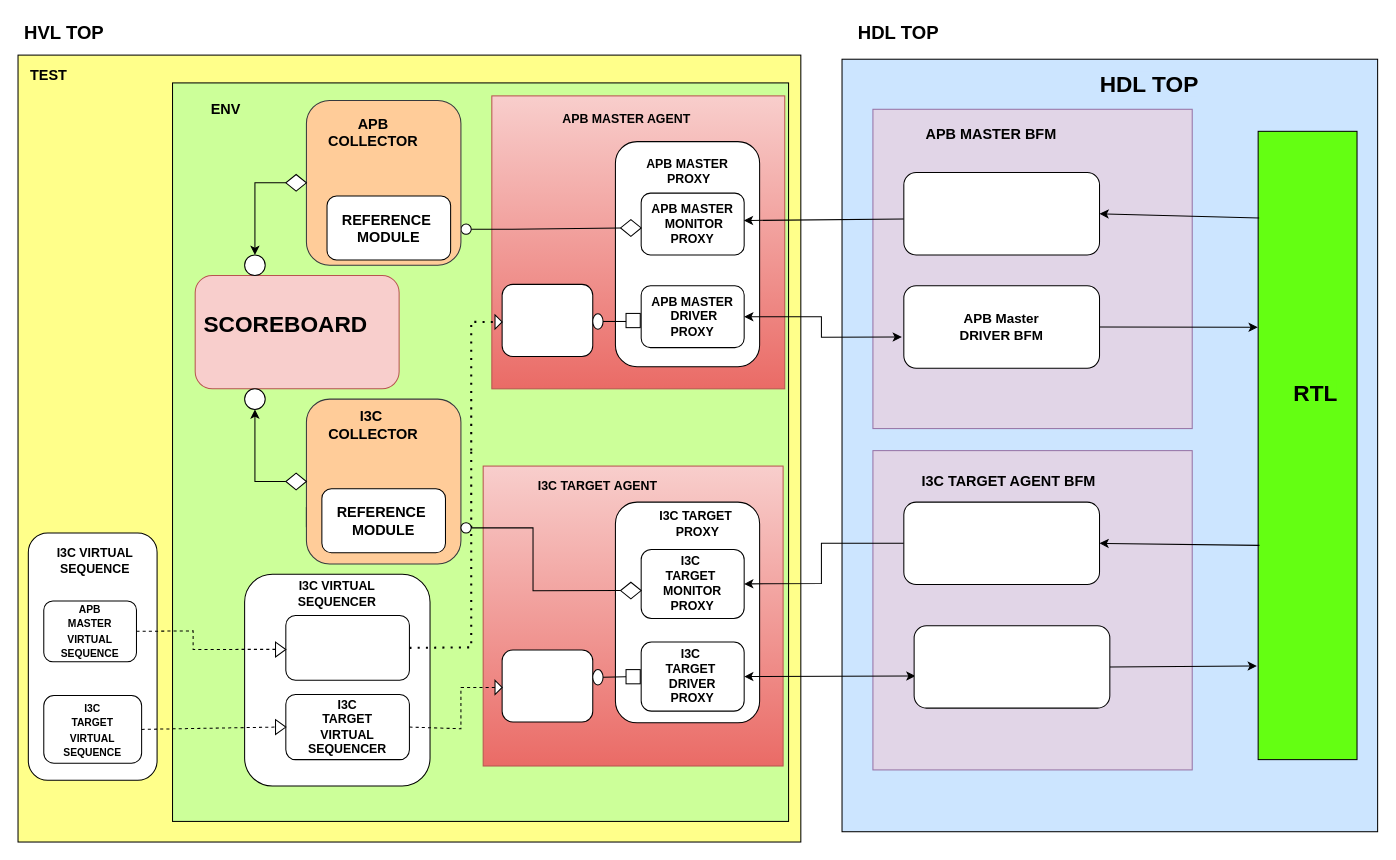
This 1396x860 diagram has some shape labels left out. The box of each missing label's shape, as (x1, y1, x2, y2) in pixels:
APB Master MONITOR BFM: (903, 171, 1100, 255)
APB MASTER SEQUENCER: (501, 283, 593, 356)
APB MASTER VIRTUAL SEQUENCER: (285, 614, 409, 680)
I3C Target DRIVER BFM: (913, 625, 1110, 708)
I3C Target MONITOR BFM: (903, 501, 1100, 585)
I3C TARGET SEQUENCER: (501, 649, 593, 722)
